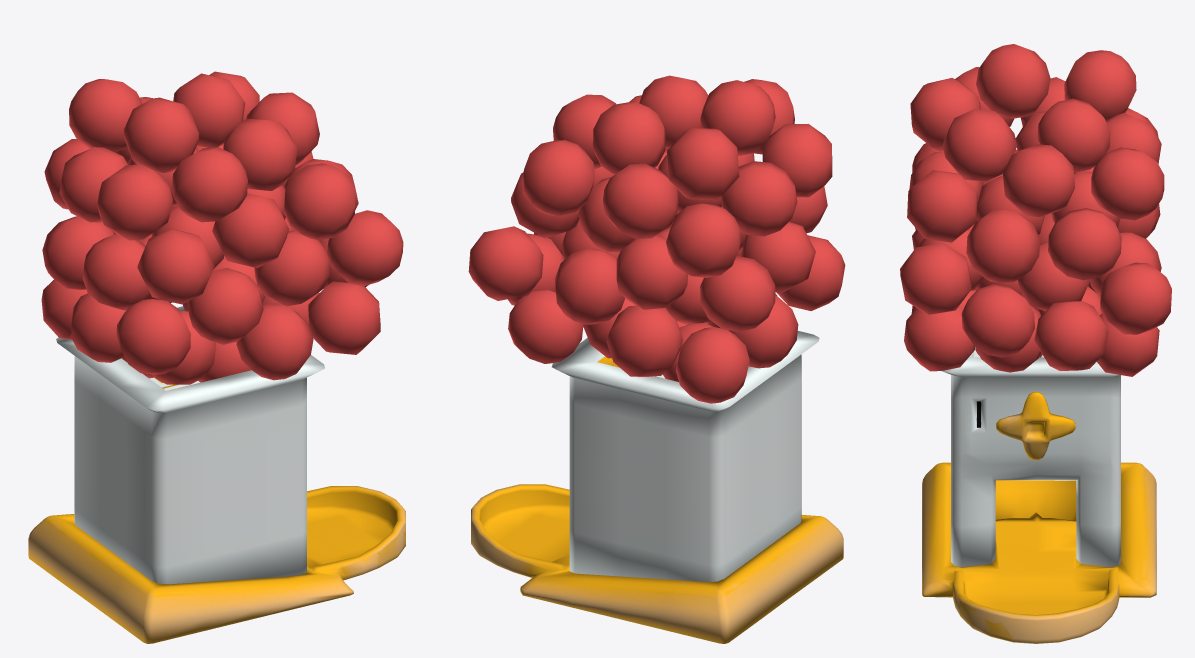
The model's file is gachaponMachine.fbx.
The picture shows the model from 3 angles, left to right: view 1: azimuth 30°, elevation 25°; view 2: azimuth 150°, elevation 25°; view 3: azimuth 270°, elevation 25°; orthographic projection. The views are drawn at different scales.
Visible parts, largest first — view 1: Cube.001, Plane.003, Sphere.042, Sphere.008, Sphere.014, Sphere.010, Sphere.011, Sphere.007, Sphere.044, Sphere.043, Sphere.004, Sphere.045 (+16 smaller); view 2: Cube.001, Plane.003, Sphere, Sphere.038, Sphere.036, Sphere.018, Sphere.035, Sphere.020, Sphere.012, Sphere.009, Sphere.013, Sphere.023 (+18 smaller); view 3: Cube.001, Plane.003, Sphere.026, Sphere.007, Sphere.038, Sphere.032, Sphere.035, Sphere.027, Sphere.030, Sphere.024, Sphere.040, Sphere.043 (+19 smaller).
Part boxes in pixels (x1,y1,x2,y2): Cube.001: (56, 306, 324, 584); Plane.003: (28, 486, 405, 643); Sphere.042: (284, 163, 355, 239); Sphere.008: (172, 147, 247, 222); Sphere.014: (116, 299, 190, 374); Sphere.010: (96, 164, 172, 240); Sphere.011: (137, 228, 214, 304); Sphere.007: (124, 97, 198, 172); Sphere.044: (308, 281, 380, 354); Sphere.043: (327, 210, 403, 286); Sphere.004: (186, 267, 263, 344); Sphere.045: (236, 303, 313, 380); Cube.001: (552, 331, 819, 582); Plane.003: (471, 484, 843, 643); Sphere: (666, 203, 741, 277); Sphere.038: (521, 140, 595, 215); Sphere.036: (603, 163, 678, 239); Sphere.018: (676, 327, 749, 403); Sphere.035: (468, 226, 543, 300); Sphere.020: (606, 305, 683, 376); Sphere.012: (667, 127, 739, 200); Sphere.009: (700, 256, 775, 332); Sphere.013: (721, 161, 797, 236); Sphere.023: (555, 248, 625, 324); Cube.001: (942, 352, 1120, 567); Plane.003: (922, 462, 1156, 643); Sphere.026: (966, 209, 1040, 282); Sphere.007: (976, 44, 1050, 118); Sphere.038: (1091, 147, 1164, 220); Sphere.032: (1048, 208, 1121, 280); Sphere.035: (1100, 262, 1171, 334); Sphere.027: (961, 284, 1034, 357); Sphere.030: (1003, 144, 1074, 216); Sphere.024: (1034, 301, 1108, 370); Sphere.040: (942, 109, 1017, 181); Sphere.043: (900, 243, 971, 314).
Bounding box in the file's own units: 156 × 232 × 124.
